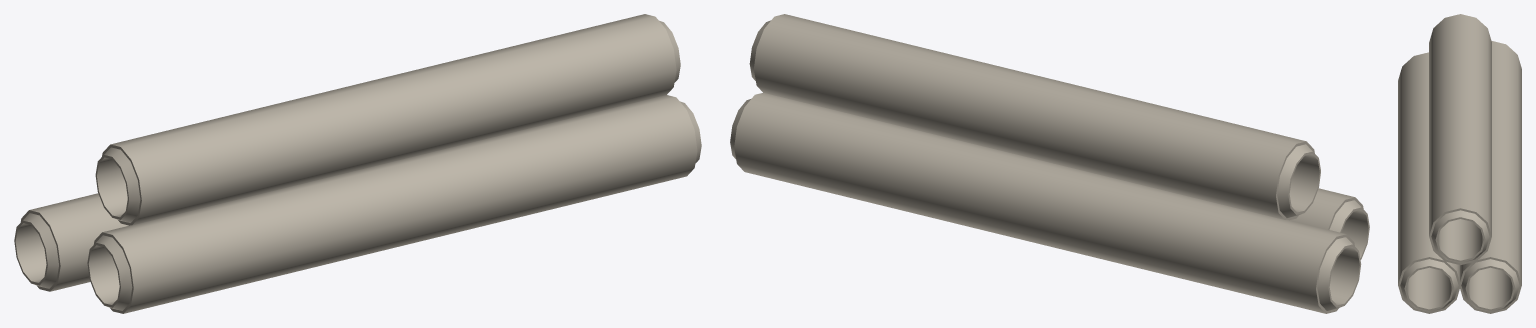
The model's file is SM_Pipe_02.fbx.
3 renders of one model, left to right at view 1: azimuth 30°, elevation 25°; view 2: azimuth 150°, elevation 25°; view 3: azimuth 270°, elevation 25°, orthographic. The views are drawn at different scales.
Parts seen in each view (by area): view 1: SM_Pipe_02; view 2: SM_Pipe_02; view 3: SM_Pipe_02.
Boxes of the visible parts, bbox=[...] form: SM_Pipe_02: bbox=[14, 14, 701, 313]; SM_Pipe_02: bbox=[730, 14, 1369, 313]; SM_Pipe_02: bbox=[1398, 14, 1521, 313].
Size of the model in its own units: 449 by 99.41 by 106.
